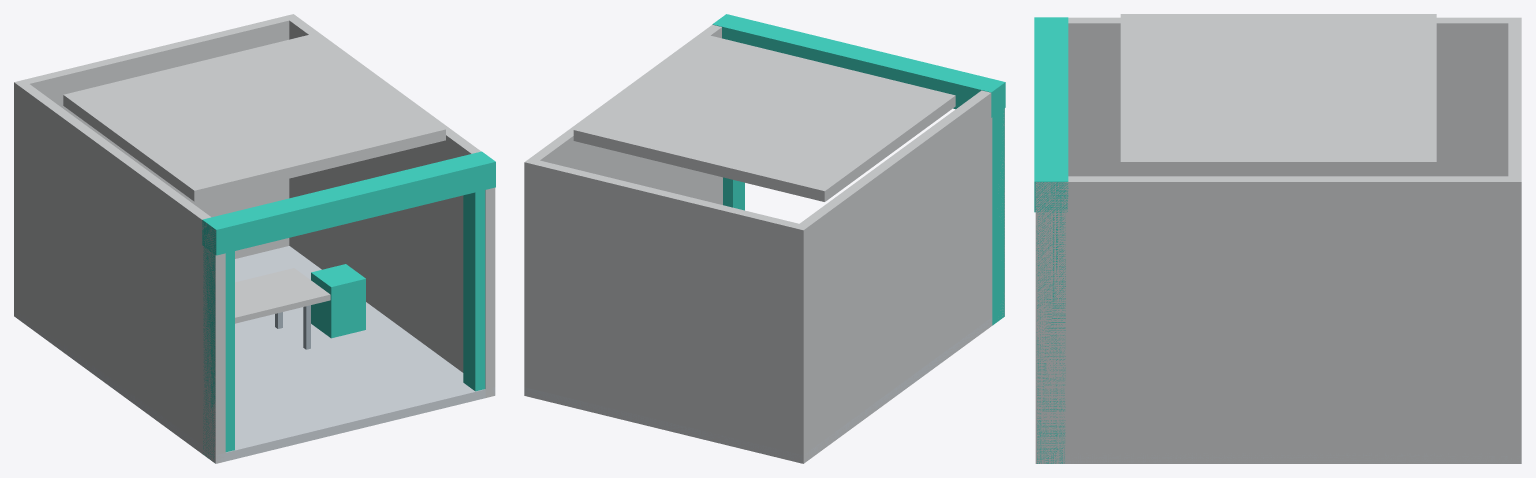
3 views of the same model, side by side, from view 1: azimuth 30°, elevation 25°; view 2: azimuth 150°, elevation 25°; view 3: azimuth 270°, elevation 25° (orthographic). The views are drawn at different scales.
Parts seen in each view (by area): view 1: Exhibition Booth Concept; view 2: Exhibition Booth Concept; view 3: Exhibition Booth Concept.
Part boxes in pixels (left/top/right/bottom): Exhibition Booth Concept: left=14, top=14, right=495, bottom=463; Exhibition Booth Concept: left=524, top=14, right=1005, bottom=463; Exhibition Booth Concept: left=1034, top=14, right=1521, bottom=463.
Bounding box in the file's own units: 4 × 3.34 × 5.02.
